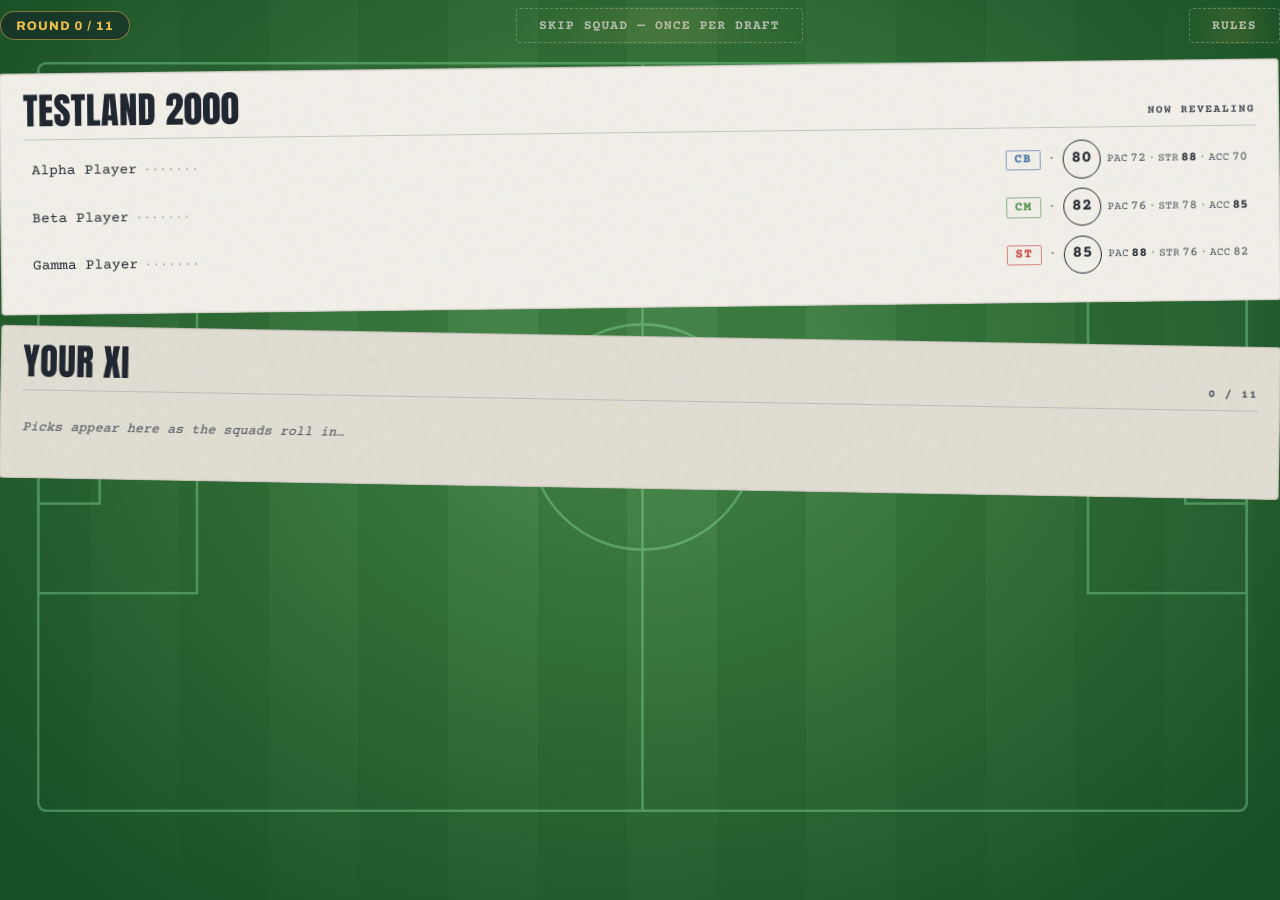
RulesProgramme — DraftScreen mount › RULES button in topline; opens and closes dialog
expect the text "RULES" is shown: met, box [1212,19,1257,33]
What coordinates should you click on to do the following:
click the button "RULES"
I would click on:
 (1234, 26)
Its box is [1189,8,1279,43].
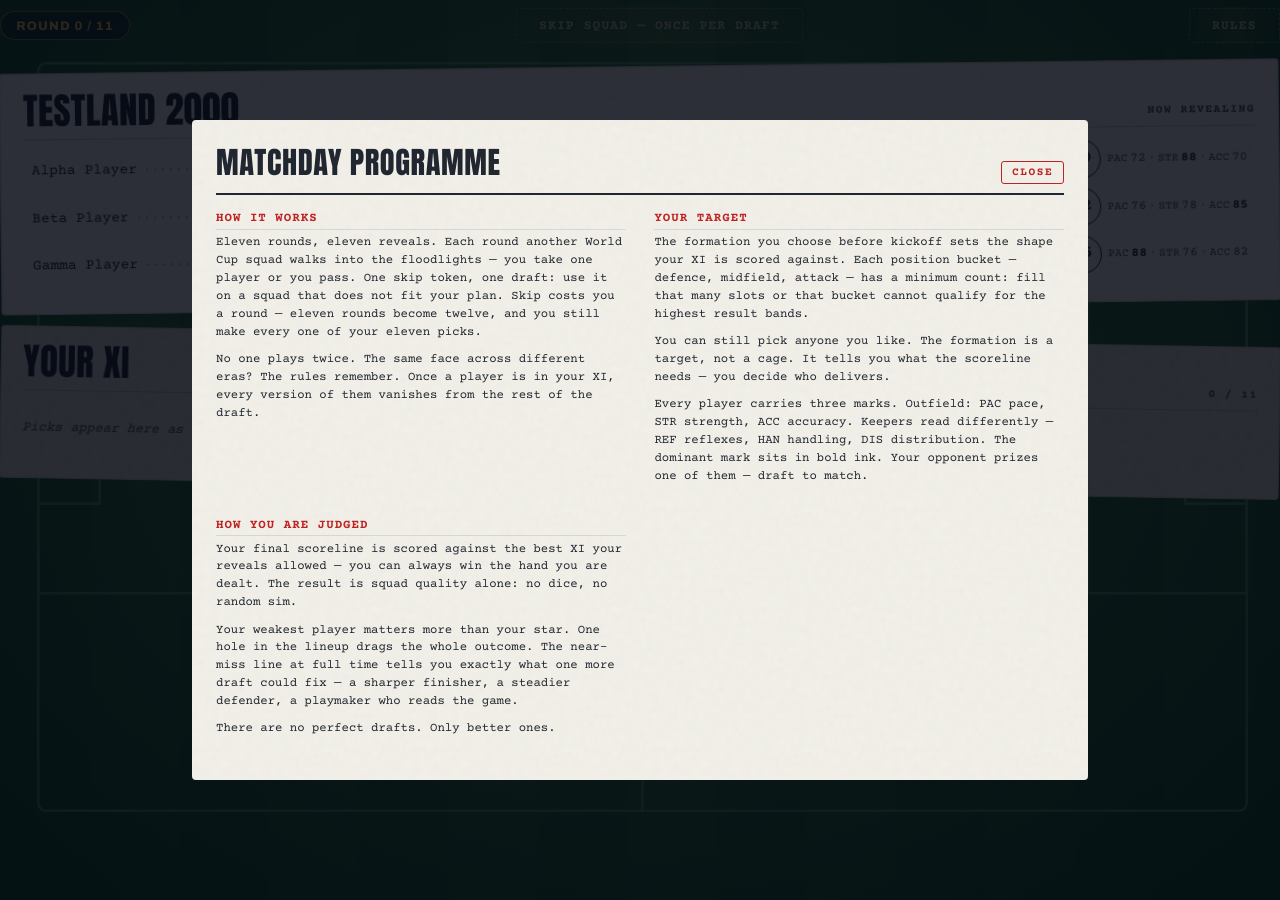
expect the dialog with class "rules-programme" is shown: met, box [192,120,1088,780]
What coordinates should you click on to do the following:
click the button with aria-label "Close programme"
I would click on:
 (1033, 173)
Its box is [1001,161,1064,184].
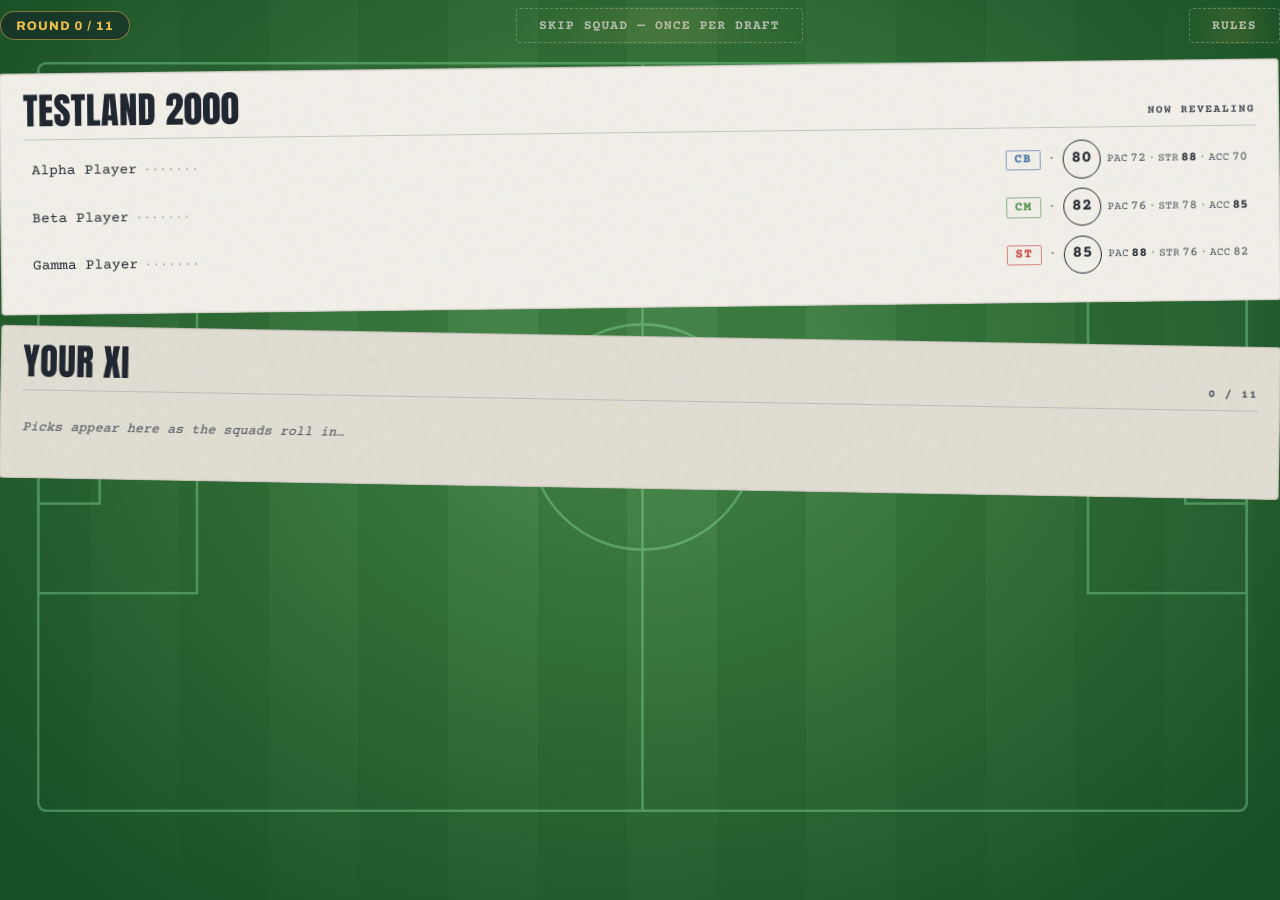
expect the dialog with class "rules-programme" is gone: met
